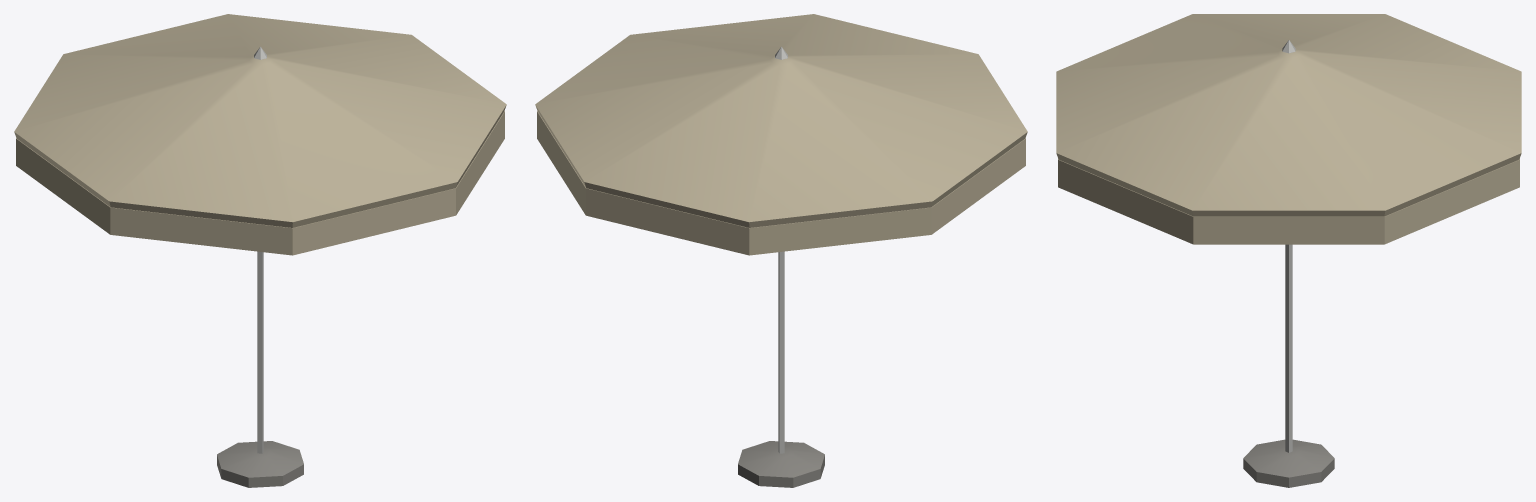
The model's file is SM_Prop_cafe_parasol_0_LOD1.glb.
3 renders of one model, left to right at view 1: azimuth 30°, elevation 25°; view 2: azimuth 150°, elevation 25°; view 3: azimuth 270°, elevation 25°, orthographic.
Visible parts, largest first — view 1: SM_Prop_cafe_parasol_0_LOD1; view 2: SM_Prop_cafe_parasol_0_LOD1; view 3: SM_Prop_cafe_parasol_0_LOD1.
Boxes of the visible parts, x1=… form: SM_Prop_cafe_parasol_0_LOD1: x1=14, y1=14, x2=506, y2=487; SM_Prop_cafe_parasol_0_LOD1: x1=535, y1=14, x2=1027, y2=487; SM_Prop_cafe_parasol_0_LOD1: x1=1056, y1=14, x2=1521, y2=487.
Size of the model in its own units: 2.44 by 2.48 by 2.44.
